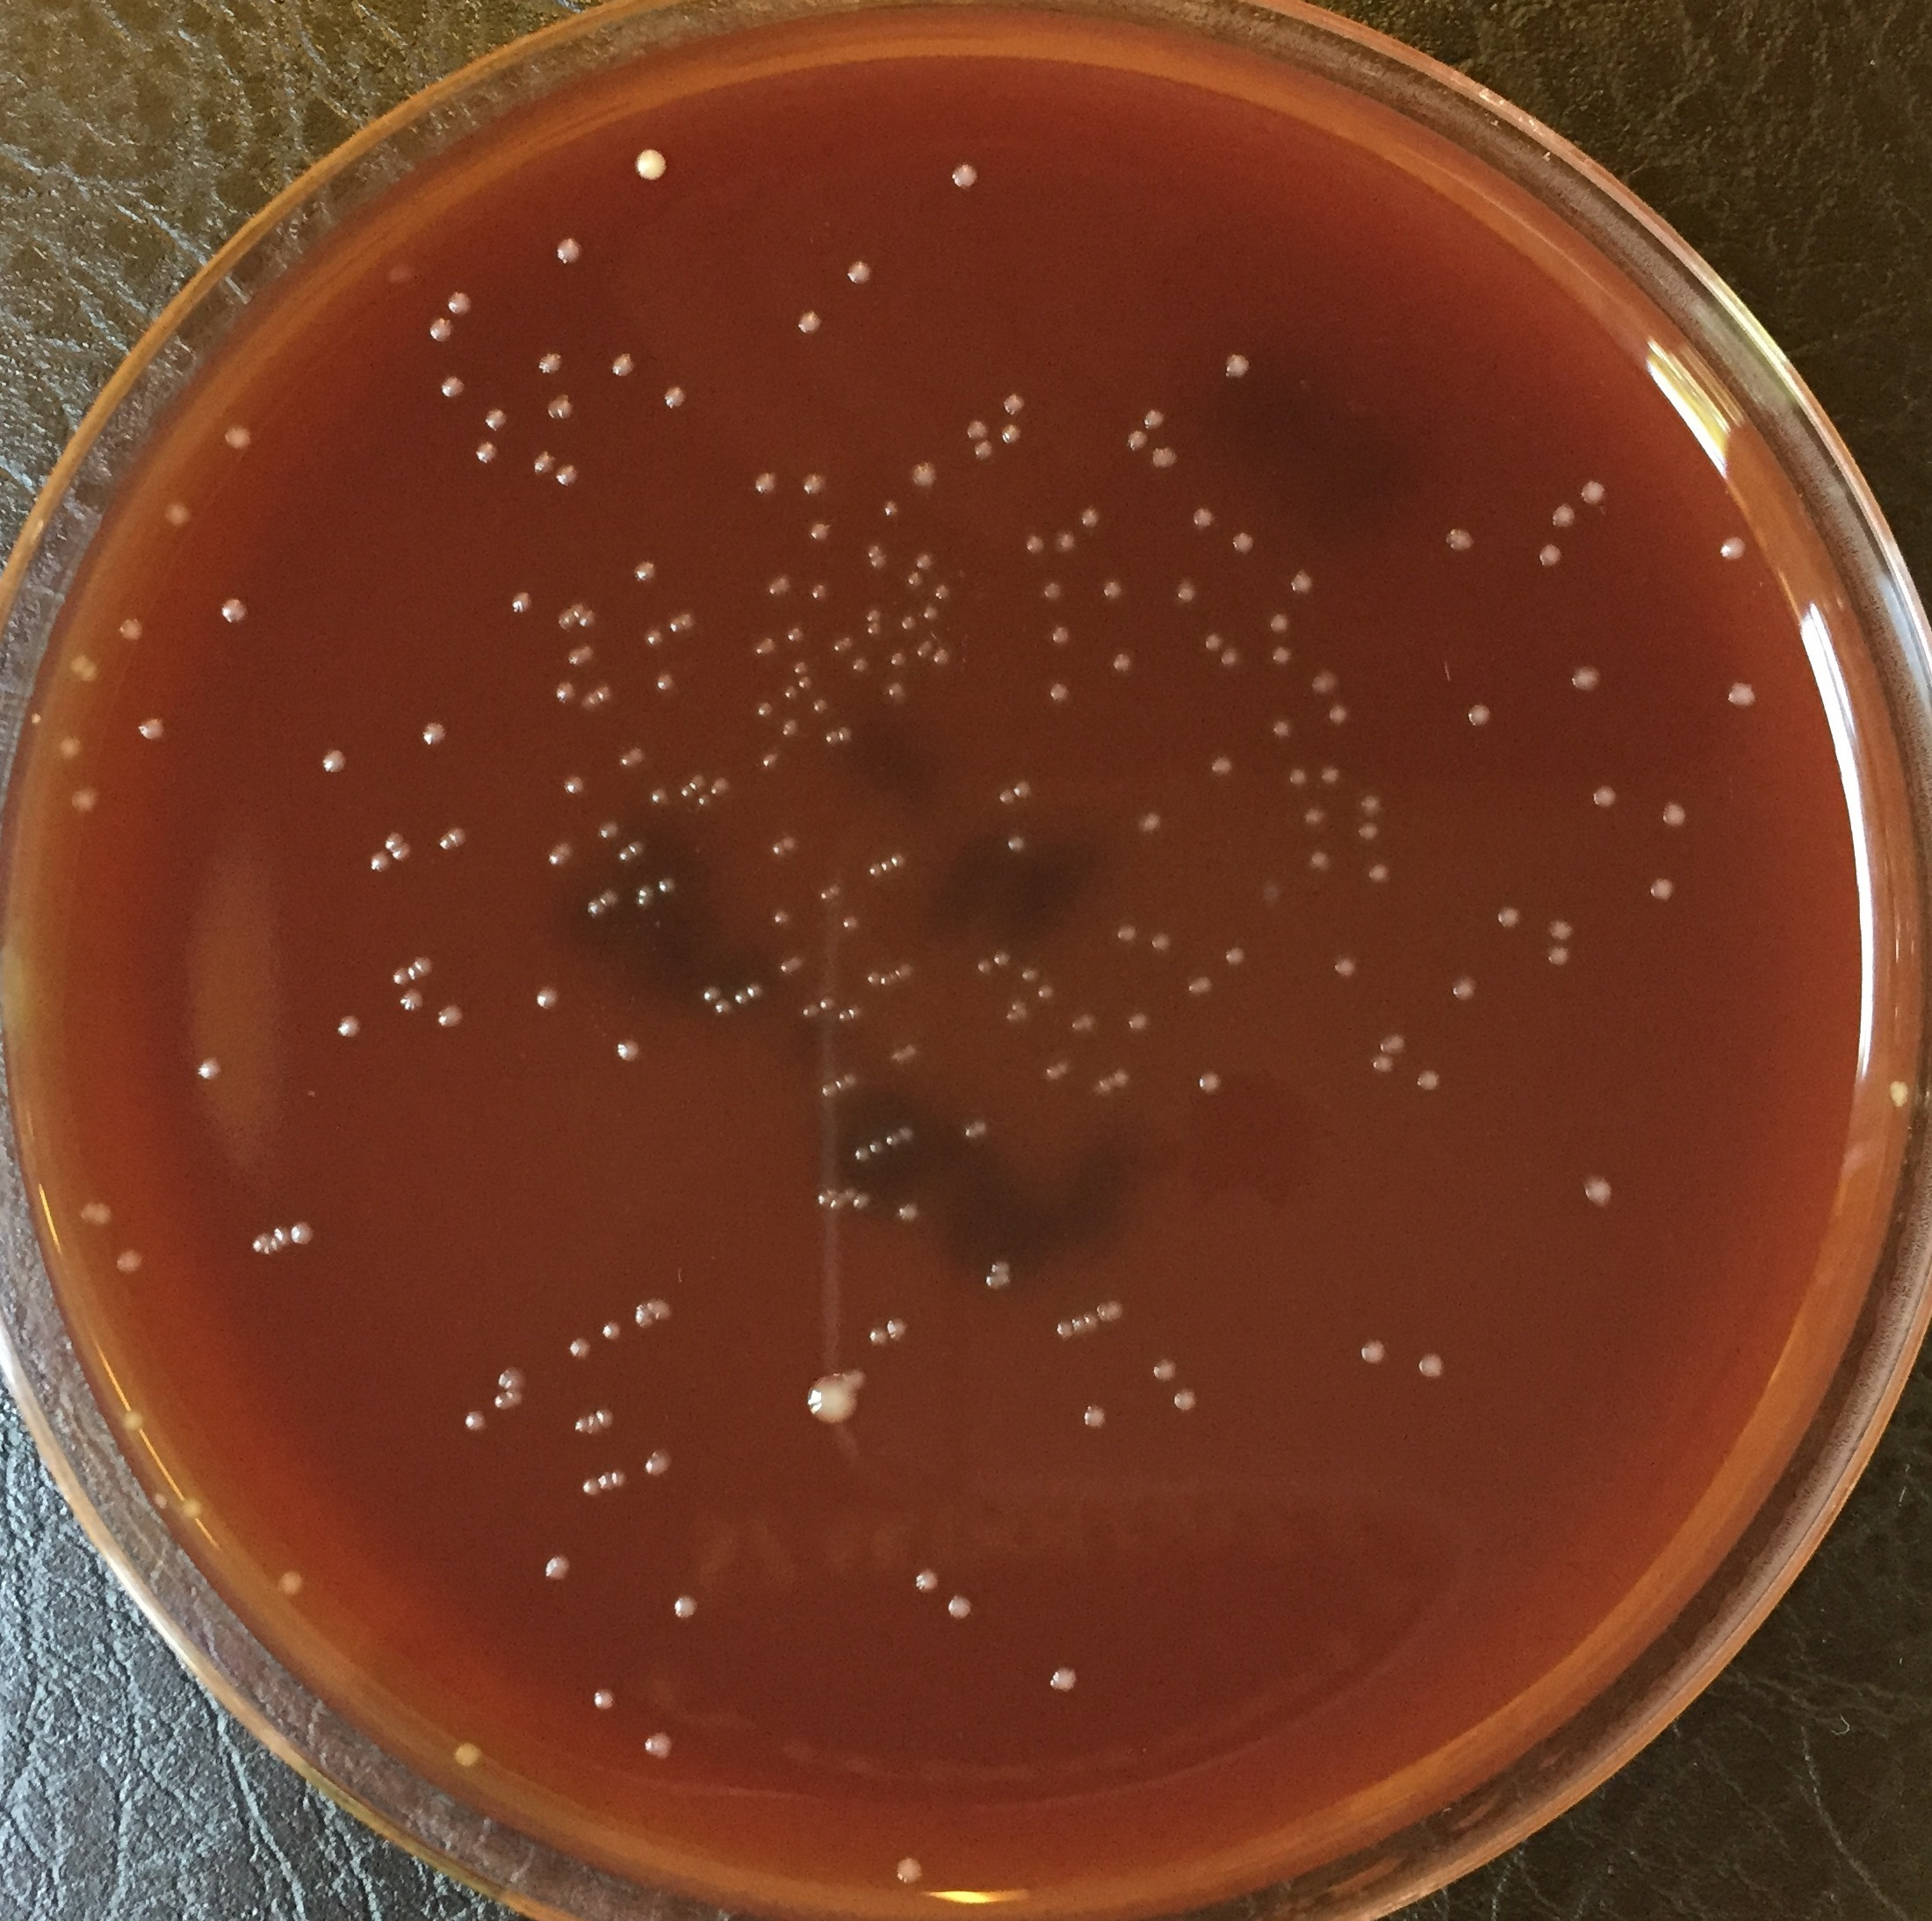sp23: (806, 1365, 878, 1434), (621, 130, 672, 185), (955, 1112, 996, 1150), (1578, 1173, 1617, 1212), (155, 496, 199, 530), (1723, 677, 1765, 711), (450, 1742, 491, 1775), (887, 1040, 934, 1068), (67, 783, 102, 820), (894, 1856, 929, 1891), (114, 1404, 153, 1435), (883, 959, 924, 989), (540, 1552, 575, 1585), (640, 1731, 677, 1763), (1568, 661, 1603, 693), (419, 719, 454, 751), (904, 461, 940, 493), (271, 1567, 308, 1597), (1577, 478, 1610, 510), (135, 714, 169, 746), (440, 373, 473, 405), (1587, 781, 1622, 811), (1443, 526, 1480, 554), (195, 1054, 227, 1085), (1082, 1402, 1112, 1435), (1360, 1333, 1390, 1367), (1460, 700, 1494, 730), (111, 1249, 144, 1279), (551, 461, 584, 491), (1036, 1054, 1063, 1091), (644, 1448, 674, 1479), (222, 422, 253, 452), (535, 350, 567, 380), (424, 317, 457, 345), (609, 348, 637, 382), (794, 310, 829, 336), (1415, 1064, 1445, 1094), (1534, 542, 1564, 572), (1311, 668, 1341, 698), (334, 1013, 364, 1043), (1001, 999, 1029, 1031), (1101, 1300, 1133, 1328), (245, 1231, 273, 1263), (1415, 1351, 1446, 1379), (1716, 535, 1747, 563), (1659, 799, 1691, 827), (1228, 530, 1260, 558), (554, 237, 586, 266), (1378, 1031, 1411, 1057), (544, 843, 577, 869), (1221, 352, 1255, 378), (670, 1594, 700, 1622), (1149, 1356, 1177, 1386), (1172, 1386, 1202, 1414), (1450, 973, 1480, 1001), (1494, 904, 1524, 932), (436, 999, 465, 1029), (218, 596, 248, 625), (480, 405, 510, 433), (545, 396, 575, 424), (494, 1363, 523, 1393), (1330, 953, 1362, 980), (1547, 917, 1578, 943), (913, 1567, 941, 1596), (947, 1596, 975, 1624), (1052, 528, 1080, 556), (1288, 568, 1316, 596), (289, 1221, 317, 1249), (53, 734, 81, 762), (801, 470, 829, 498), (398, 987, 428, 1013), (318, 748, 348, 774), (750, 471, 779, 498), (632, 1304, 658, 1332), (589, 1685, 618, 1712), (535, 985, 563, 1012), (616, 1036, 642, 1064), (595, 816, 621, 844), (999, 392, 1028, 419), (662, 385, 690, 412), (530, 450, 558, 477), (779, 952, 804, 982), (843, 262, 873, 287), (176, 1497, 206, 1522), (465, 1407, 491, 1434), (1049, 1666, 1075, 1692), (885, 1314, 910, 1342), (1327, 700, 1351, 728), (447, 823, 472, 851), (116, 617, 144, 642), (1151, 445, 1179, 470), (950, 162, 978, 186), (447, 290, 475, 315), (150, 1486, 171, 1518), (1112, 1066, 1138, 1091), (1209, 755, 1235, 779), (472, 440, 496, 466), (767, 575, 792, 602), (1369, 1054, 1397, 1077), (1548, 503, 1577, 526), (1137, 813, 1165, 836), (1547, 945, 1571, 969), (1191, 505, 1216, 530), (1219, 644, 1244, 668), (899, 1203, 926, 1226), (1077, 505, 1103, 528), (1174, 582, 1200, 605), (1358, 792, 1385, 814), (368, 850, 391, 876), (507, 591, 533, 614), (866, 1325, 890, 1348), (1126, 1012, 1151, 1034), (1198, 1071, 1223, 1094), (1270, 718, 1293, 742), (1357, 820, 1381, 843), (1367, 862, 1392, 885), (391, 841, 415, 864), (623, 837, 648, 860), (551, 679, 574, 704), (998, 424, 1022, 447), (567, 1337, 593, 1358), (1114, 922, 1140, 943), (1270, 644, 1297, 665), (1286, 767, 1313, 788), (76, 1200, 97, 1226), (380, 830, 406, 851), (563, 772, 584, 799), (711, 774, 732, 800), (273, 1223, 292, 1251), (1052, 1318, 1075, 1340), (1225, 945, 1248, 968), (1649, 878, 1672, 901), (1101, 579, 1124, 602), (1267, 612, 1290, 635), (79, 663, 102, 686), (808, 522, 831, 545), (966, 419, 989, 442), (1126, 429, 1149, 452), (415, 952, 436, 976), (1042, 582, 1066, 603), (1047, 681, 1072, 702), (1321, 763, 1346, 785), (1304, 806, 1328, 827), (69, 653, 90, 677), (633, 561, 658, 582), (1012, 776, 1031, 802), (640, 630, 667, 649), (985, 1272, 1014, 1289), (581, 1476, 602, 1499), (1149, 929, 1172, 950), (1026, 533, 1047, 556), (1049, 625, 1072, 646), (1307, 850, 1330, 871), (598, 887, 621, 908), (755, 635, 778, 656), (915, 552, 938, 573), (971, 440, 992, 463), (598, 1319, 623, 1339), (779, 714, 799, 739), (593, 683, 612, 707), (790, 658, 815, 677), (609, 1467, 630, 1488), (852, 1191, 873, 1212), (656, 672, 677, 693), (755, 700, 776, 721), (1140, 410, 1163, 429), (1068, 1312, 1086, 1337), (1082, 1309, 1100, 1333), (885, 683, 910, 700), (1204, 632, 1225, 651), (998, 786, 1017, 807), (841, 913, 862, 932), (616, 844, 635, 866), (656, 876, 676, 897), (697, 793, 716, 814), (679, 610, 699, 632), (889, 649, 910, 668), (933, 647, 952, 668), (899, 612, 918, 633), (882, 498, 903, 517), (570, 1414, 588, 1437), (596, 1469, 614, 1492), (1112, 651, 1135, 668), (565, 649, 588, 667), (1094, 1077, 1110, 1101), (834, 637, 859, 653), (864, 558, 889, 573), (975, 957, 994, 976), (992, 948, 1012, 968), (586, 897, 605, 917), (760, 753, 779, 772), (809, 584, 829, 603), (933, 582, 952, 602), (579, 610, 598, 630), (699, 985, 720, 1003), (801, 1003, 822, 1020), (438, 832, 456, 853), (649, 788, 667, 809), (596, 1407, 614, 1427), (897, 1126, 917, 1143), (1035, 982, 1054, 999), (1006, 834, 1024, 853), (582, 691, 600, 711), (633, 895, 655, 911), (785, 626, 806, 642), (815, 1193, 832, 1210), (1195, 975, 1212, 992), (818, 994, 836, 1012), (391, 968, 408, 985), (688, 772, 706, 790), (797, 674, 815, 691), (781, 683, 799, 700), (582, 644, 600, 661), (838, 725, 855, 742), (906, 570, 924, 588), (493, 1391, 509, 1411), (1022, 966, 1042, 982), (869, 862, 885, 881), (779, 836, 799, 851), (850, 656, 869, 672), (866, 625, 885, 640), (864, 544, 883, 559), (867, 1140, 885, 1156), (820, 1084, 838, 1099), (885, 1133, 903, 1149), (734, 989, 751, 1004), (746, 982, 764, 997), (667, 619, 684, 635), (811, 697, 829, 712), (989, 1260, 1008, 1274), (674, 785, 693, 799), (1070, 1019, 1086, 1034), (769, 841, 785, 857), (866, 609, 882, 625), (823, 730, 839, 746), (855, 1143, 869, 1161), (771, 911, 788, 925), (614, 753, 632, 767), (839, 1008, 852, 1027), (408, 962, 421, 982), (882, 860, 896, 876), (892, 853, 906, 869), (570, 605, 588, 617), (818, 888, 832, 902), (637, 883, 651, 897), (922, 607, 936, 621), (867, 971, 882, 983), (832, 1075, 843, 1091), (843, 1073, 855, 1085)
